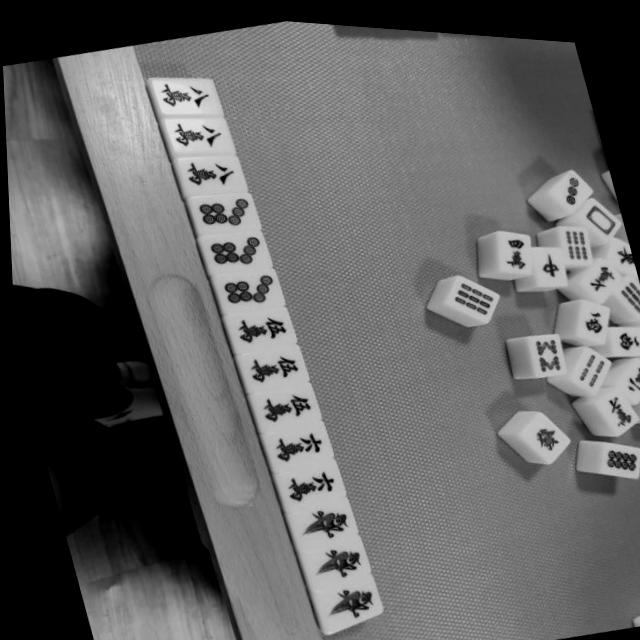sb1: (309, 570, 376, 624), (285, 493, 350, 544), (298, 532, 364, 582)
sc5: (223, 299, 291, 349), (236, 339, 303, 389), (251, 378, 313, 426)
sc6: (271, 455, 339, 507), (259, 417, 326, 468)
sc8: (150, 70, 217, 117), (176, 149, 239, 196), (163, 109, 227, 154)
sd7: (199, 222, 268, 273), (210, 261, 277, 311), (186, 186, 254, 233)
